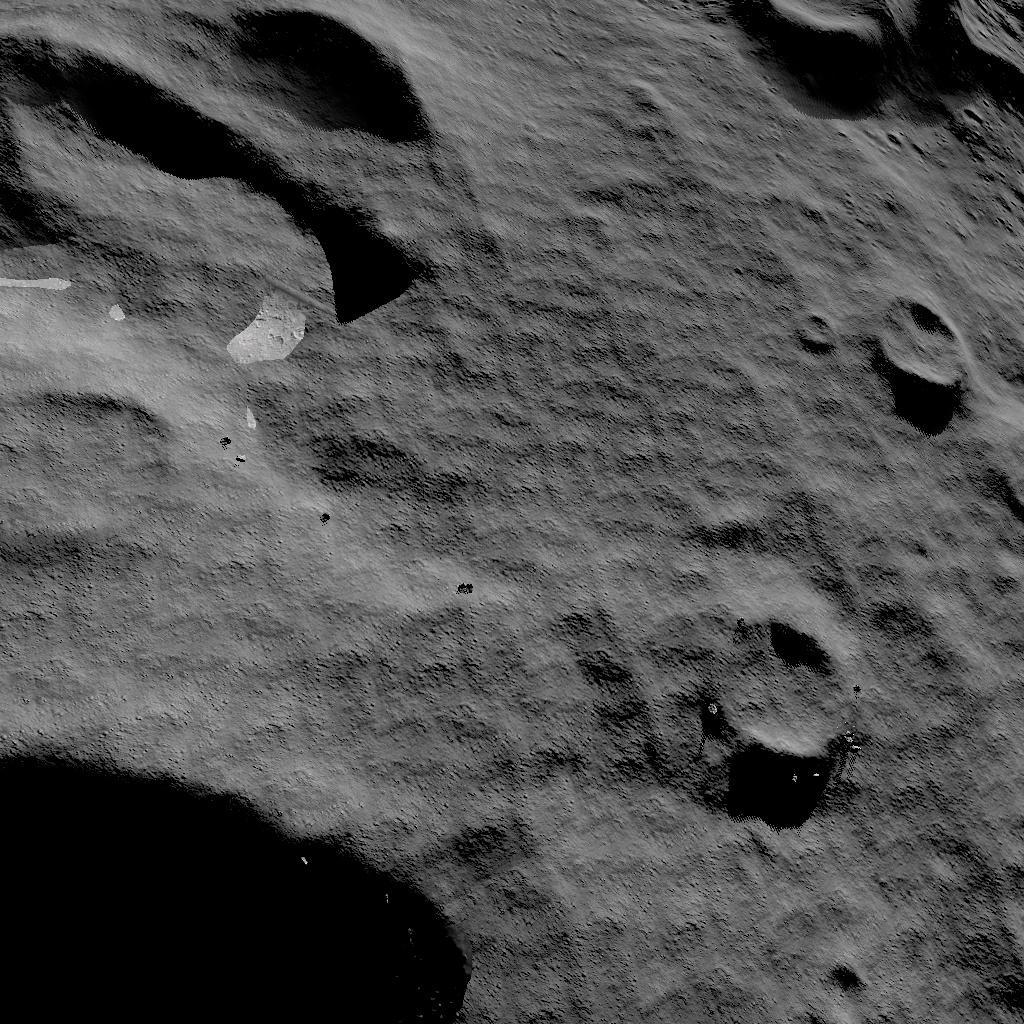Crater: (0, 681, 495, 1024), (0, 0, 441, 346), (741, 0, 1024, 143), (2, 378, 169, 576), (697, 613, 859, 770), (866, 274, 983, 422), (805, 953, 877, 1024), (790, 300, 833, 354)
Plan surface: (468, 2, 715, 488), (519, 810, 727, 1024)
